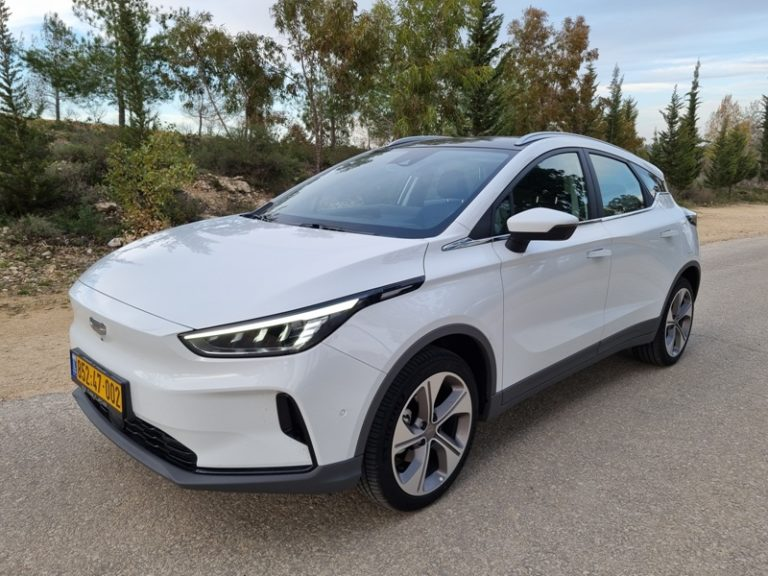licence: (69, 347, 128, 420)
